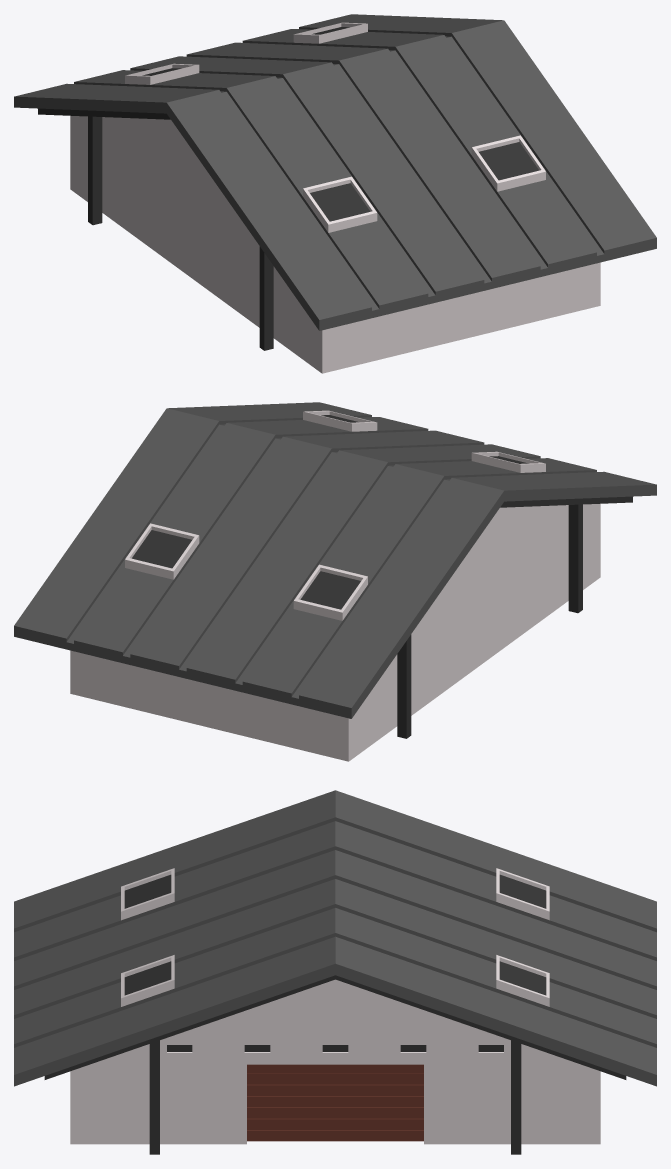
File: warehouse.glb
The picture shows the model from 3 angles, top to bottom: view 1: azimuth 30°, elevation 25°; view 2: azimuth 150°, elevation 25°; view 3: azimuth 270°, elevation 25°; orthographic projection. The views are drawn at different scales.
Parts seen in each view (by area): view 1: roof, body, roof.001, support; view 2: roof, body, roof.001, support; view 3: roof, body, roof.001, support, ventilation.
Part boxes in pixels (x1=…): roof: x1=14, y1=14, x2=656, y2=330; body: x1=70, y1=115, x2=600, y2=373; roof.001: x1=125, y1=22, x2=545, y2=232; support: x1=38, y1=108, x2=273, y2=350; roof: x1=14, y1=402, x2=656, y2=718; body: x1=70, y1=503, x2=600, y2=761; roof.001: x1=125, y1=410, x2=545, y2=620; support: x1=397, y1=496, x2=632, y2=738; roof: x1=14, y1=790, x2=656, y2=1086; body: x1=70, y1=979, x2=600, y2=1144; roof.001: x1=121, y1=868, x2=549, y2=1006; support: x1=44, y1=975, x2=626, y2=1154; ventilation: x1=167, y1=1045, x2=503, y2=1051.
Size of the model in its own units: 2.92 by 1.54 by 4.57.
